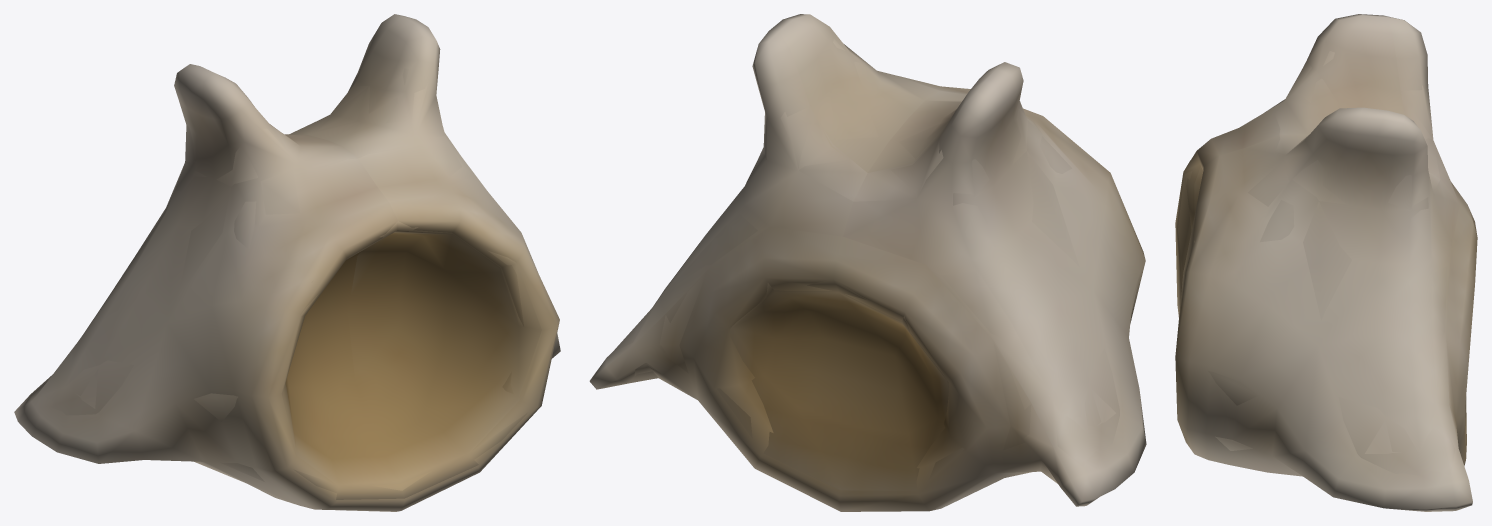
Rendered from vertebrae caudales 03.fbx.
3 views of the same model, side by side, from view 1: azimuth 30°, elevation 25°; view 2: azimuth 150°, elevation 25°; view 3: azimuth 270°, elevation 25° (orthographic). The views are drawn at different scales.
Visible parts, largest first — view 1: vertebrae caudales 03, vertebrae caudales 03 low; view 2: vertebrae caudales 03, vertebrae caudales 03 low; view 3: vertebrae caudales 03, vertebrae caudales 03 low.
Boxes of the visible parts, x1,y1,x2,y2 form: vertebrae caudales 03: (14, 14, 560, 511); vertebrae caudales 03 low: (36, 68, 541, 499); vertebrae caudales 03: (589, 14, 1146, 511); vertebrae caudales 03 low: (612, 39, 1139, 490); vertebrae caudales 03: (1175, 14, 1477, 511); vertebrae caudales 03 low: (1178, 51, 1456, 475).
Size of the model in its own units: 2.56 by 2.09 by 1.42.
Materials: 1 (1 with a texture image).
